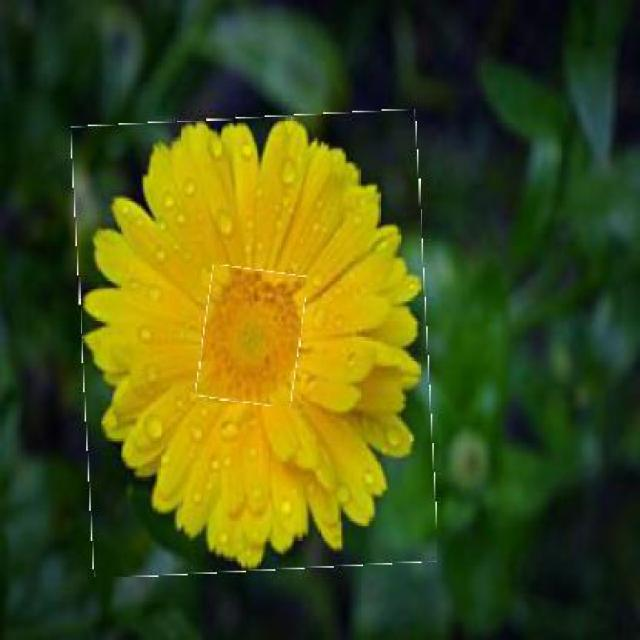Flower: (78, 114, 433, 575), (200, 269, 305, 406)
